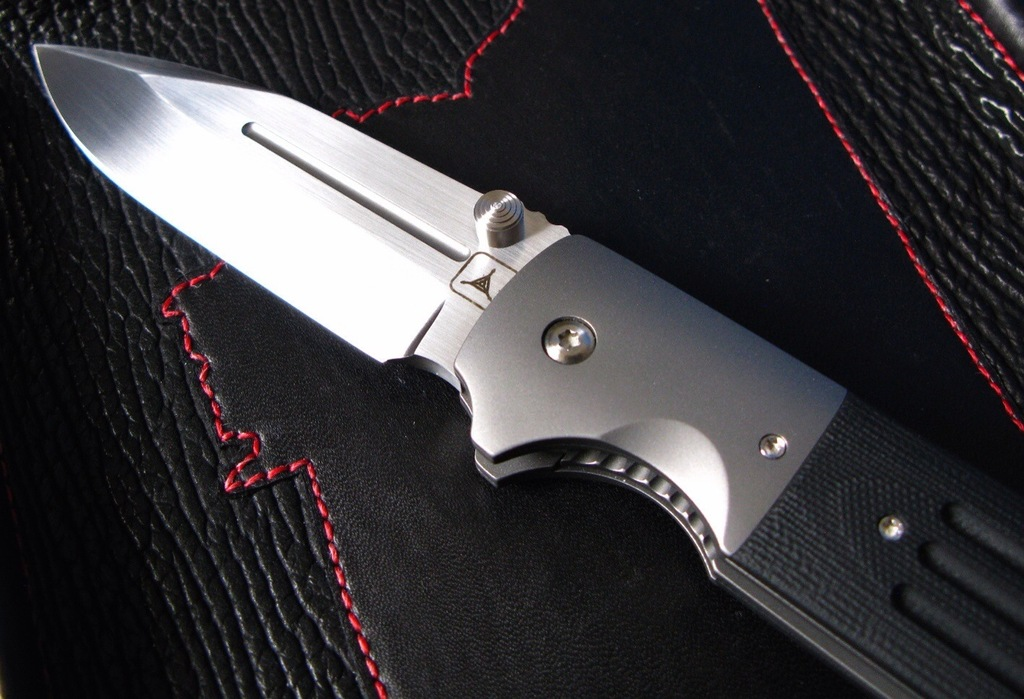knife: (33, 43, 1023, 698)
